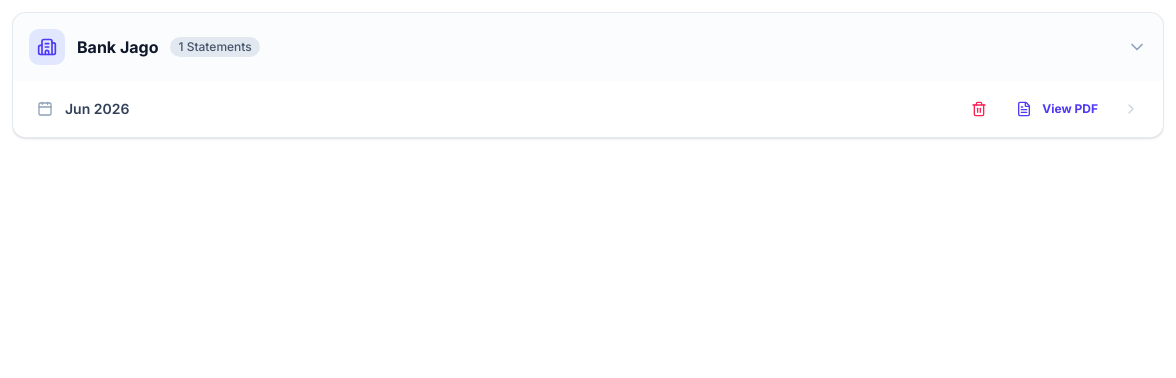
Test: BankStatementList Component › renders statements list successfully and expands a statement period on click
Expected: the heading "Bank Jago" is shown, [77,35,158,59]
Expected: the text "Jun 2026" is shown, [65,99,129,119]
Click the period row to expand items
Click the button "Jun 2026": click(97, 108) [37,99,963,119]
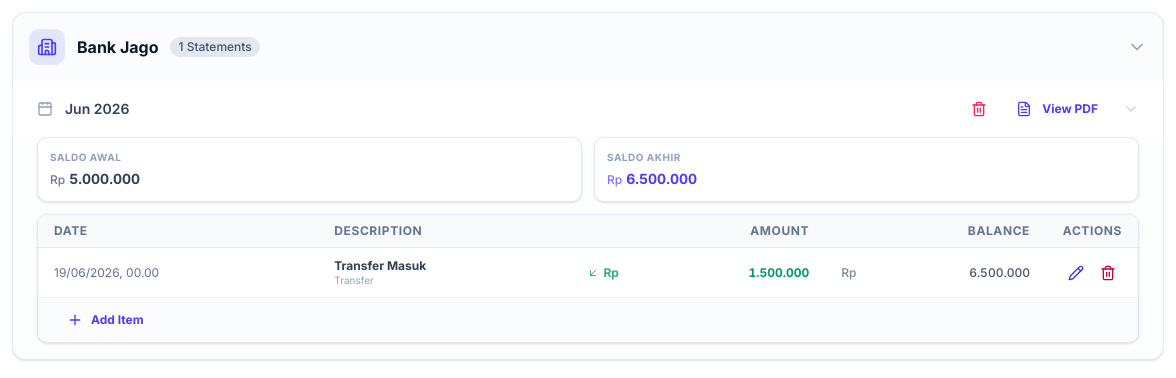
Expected: the text "Saldo Awal" is shown, [50,151,121,163]
Expected: the text "Saldo Akhir" is shown, [607,151,681,163]
